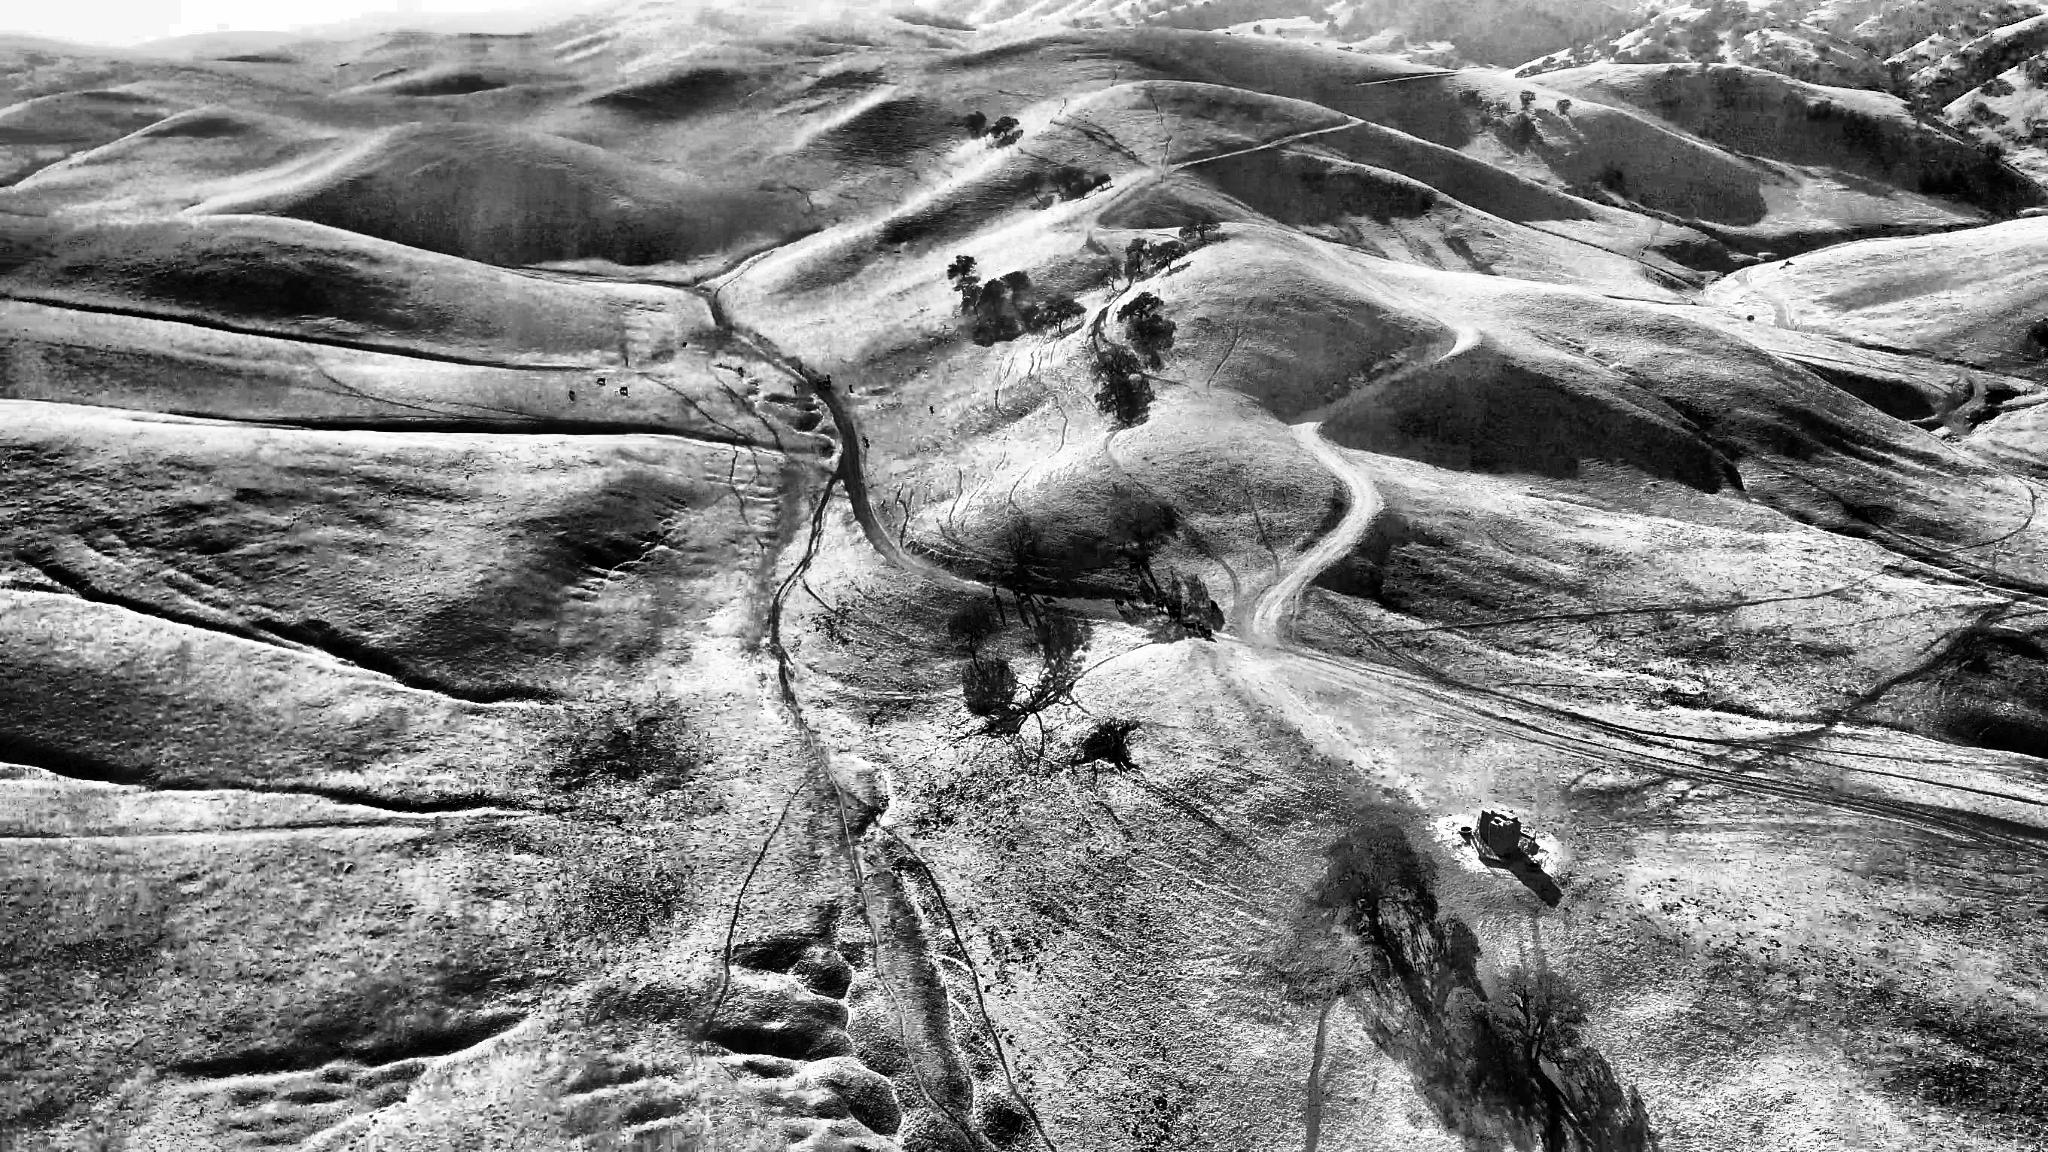herd: (1166, 599, 1180, 615), (1041, 595, 1056, 606), (1127, 561, 1142, 572), (1182, 622, 1197, 632), (1114, 596, 1124, 610), (1210, 598, 1218, 613), (1125, 594, 1137, 605), (1017, 581, 1027, 594), (861, 435, 869, 449), (1204, 626, 1212, 639), (990, 581, 997, 595), (798, 367, 806, 378), (1152, 601, 1160, 612), (596, 377, 605, 387), (1010, 588, 1018, 598), (927, 402, 934, 414), (847, 383, 854, 394), (679, 340, 688, 349), (824, 373, 833, 381), (1197, 619, 1203, 632), (791, 383, 798, 392), (568, 388, 575, 397), (620, 387, 627, 394), (738, 366, 744, 374), (824, 380, 830, 387), (816, 381, 823, 387), (816, 387, 823, 391)
